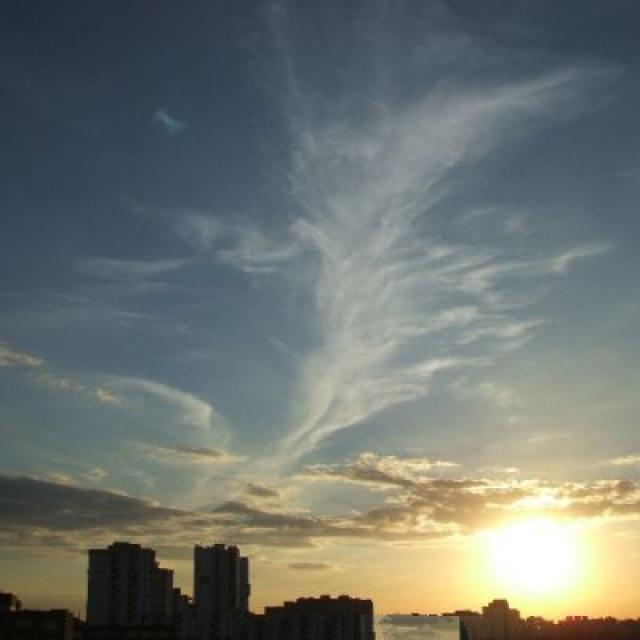Ci: (1, 26, 640, 508)
